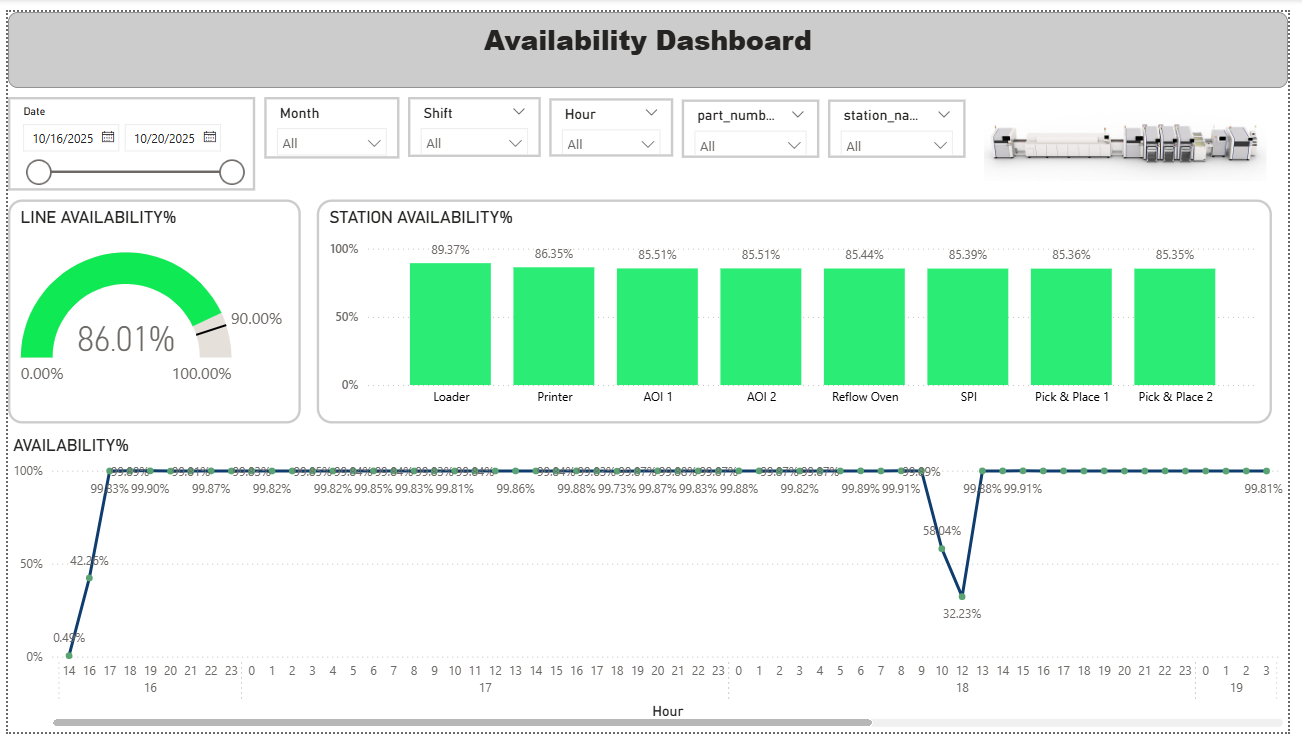

The dashboard page shown, as its layout file describes it:
{"tool":"powerbi","page":{"name":"Availability","canvas":[1280,720],"ordinal":3},"visuals":[{"type":"textbox","box":[0,0,1280,76.2],"z":0},{"type":"gauge","title":"LINE AVAILABILITY%","fields":{"Y":["performance_quality_availability_hourly_stationwise_fact.Avg_Availabilty_stationwise"]},"box":[0,187.5,292.5,223.8],"z":1000},{"type":"columnChart","title":"STATION AVAILABILITY%","fields":{"Category":["stations_dim.station_name"],"Y":["performance_quality_availability_hourly_stationwise_fact.Avg_Availabilty_stationwise"]},"box":[308.8,187.5,955,223.8],"z":2000},{"type":"slicer","fields":{"Values":["date_hour_dim.Date"]},"box":[0,85,247.5,93.8],"z":3000},{"type":"slicer","fields":{"Values":["shift_dim.Shift"]},"box":[400,85,132.5,60],"z":4000},{"type":"slicer","fields":{"Values":["shift_dim.Hour"]},"box":[541.2,86.2,123.8,58.8],"z":5000},{"type":"slicer","fields":{"Values":["stations_dim.station_name"]},"box":[820,87.5,137.5,58.8],"z":6000},{"type":"slicer","fields":{"Values":["calendar_dim.Month"]},"box":[256.2,85,135,61.2],"z":7000},{"type":"lineChart","title":"AVAILABILITY%","fields":{"Category":["date_hour_dim.date_hour.Variation.Date Hierarchy.Day","date_hour_dim.Hour"],"Y":["performance_quality_availability_hourly_stationwise_fact.Avg_Availabilty_stationwise"]},"box":[0,422.5,1280,297.5],"z":8000},{"type":"image","box":[971.2,85,292.5,93.8],"z":9000},{"type":"slicer","fields":{"Values":["quality_linewise_datehour_fact.part_number"]},"box":[673.8,87.5,137.5,58.8],"z":11000}]}

Visuals, with their boxes in screenshot pixels (x1, y1, x2, y2), scaled from the page's 1280x720 canvas onto the 1302x737 screenshot:
textbox: 0 0 1301 78
"LINE AVAILABILITY%" gauge: 0 192 298 421
"STATION AVAILABILITY%" columnChart: 314 192 1286 421
slicer - date_hour_dim.Date: 0 87 252 183
slicer - shift_dim.Shift: 407 87 542 148
slicer - shift_dim.Hour: 551 88 676 148
slicer - stations_dim.station_name: 834 90 974 150
slicer - calendar_dim.Month: 261 87 398 150
"AVAILABILITY%" lineChart: 0 432 1301 736
image: 988 87 1285 183
slicer - quality_linewise_datehour_fact.part_number: 685 90 825 150
